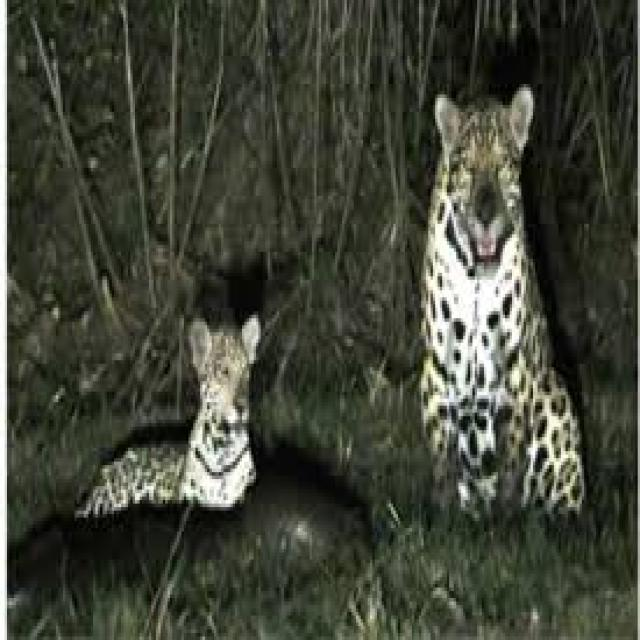Jaguar: (421, 91, 589, 525), (84, 325, 256, 514)
